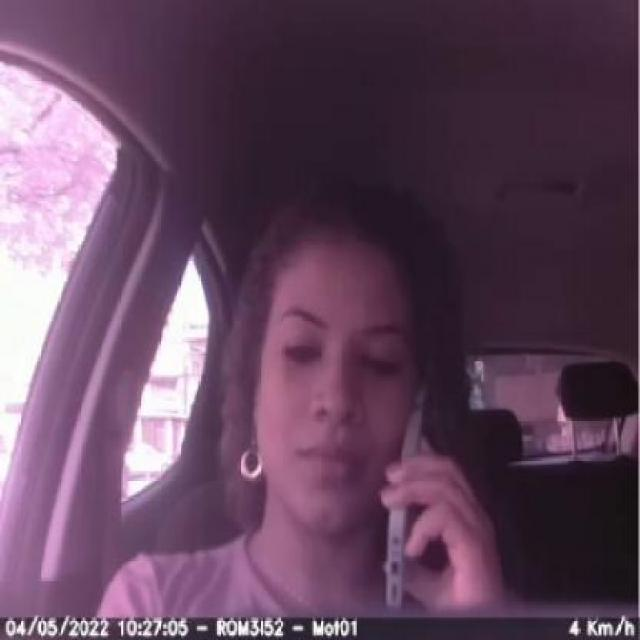using_phone: (300, 353, 514, 617)
